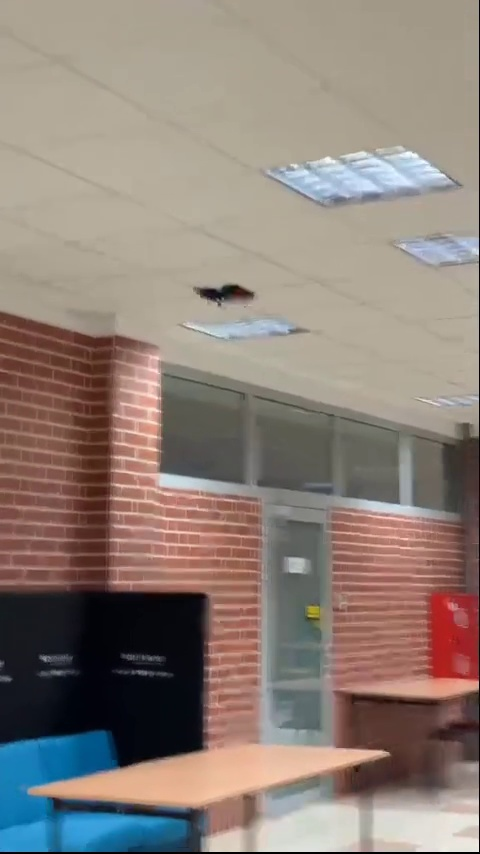drone: (196, 283, 257, 314)
